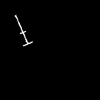double_crochet: (15, 15, 31, 45)
